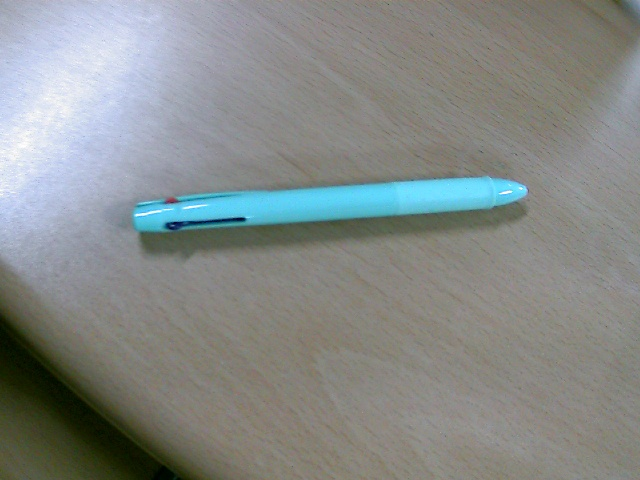pen: (73, 52, 580, 354)
